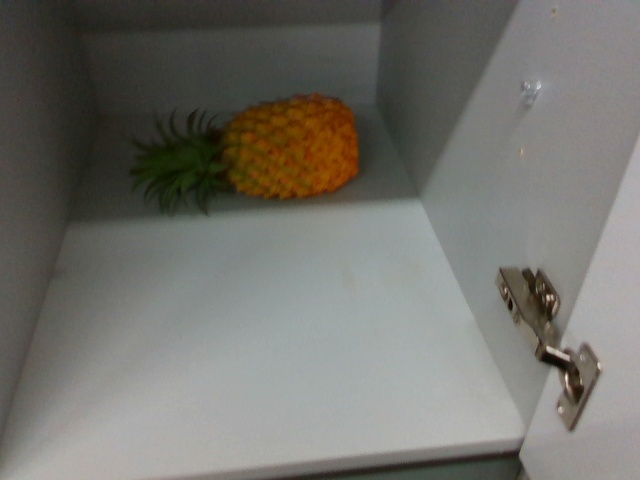pineapple: (132, 91, 363, 219)
